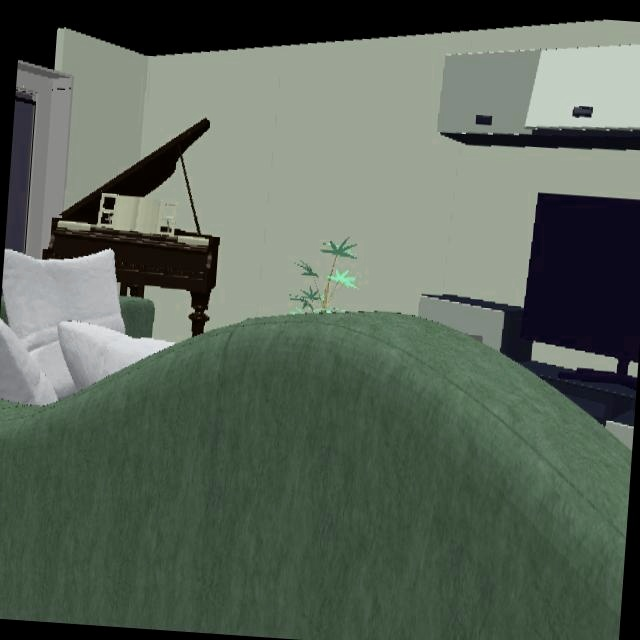cabinet: (435, 43, 640, 152), (418, 294, 533, 368), (540, 373, 632, 426)
monitor: (519, 192, 640, 390)
pillow: (1, 249, 125, 352), (58, 321, 174, 392), (0, 319, 58, 406), (29, 341, 74, 399)
sofa: (0, 311, 631, 640), (119, 296, 158, 339), (0, 287, 10, 327)
